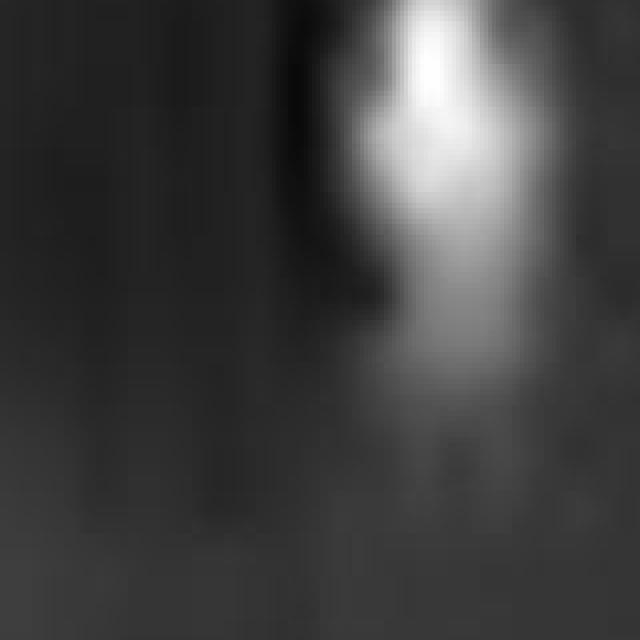person: (321, 1, 561, 422)
